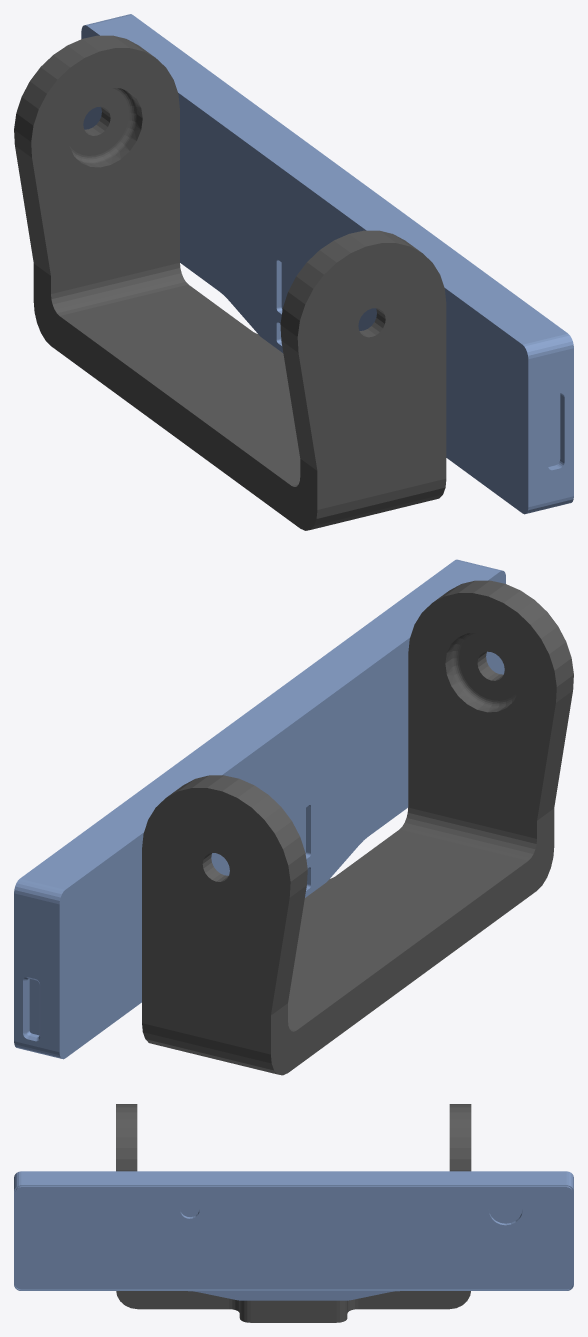
The model's file is anymal_realsense_zr300_2.dae.
3 renders of one model, top to bottom at view 1: azimuth 30°, elevation 25°; view 2: azimuth 150°, elevation 25°; view 3: azimuth 270°, elevation 25°, orthographic. The views are drawn at different scales.
Parts seen in each view (by area): view 1: _52598_00-ASM_BEAR_RealSense_withBracket_for_inertia_calcula; view 2: _52598_00-ASM_BEAR_RealSense_withBracket_for_inertia_calcula; view 3: _52598_00-ASM_BEAR_RealSense_withBracket_for_inertia_calcula.
Boxes of the visible parts, x1,y1,x2,y2 form: _52598_00-ASM_BEAR_RealSense_withBracket_for_inertia_calcula: (14, 14, 573, 530); _52598_00-ASM_BEAR_RealSense_withBracket_for_inertia_calcula: (14, 559, 573, 1075); _52598_00-ASM_BEAR_RealSense_withBracket_for_inertia_calcula: (14, 1104, 573, 1322).
Size of the model in its own units: 39.38 by 156 by 54.45.
